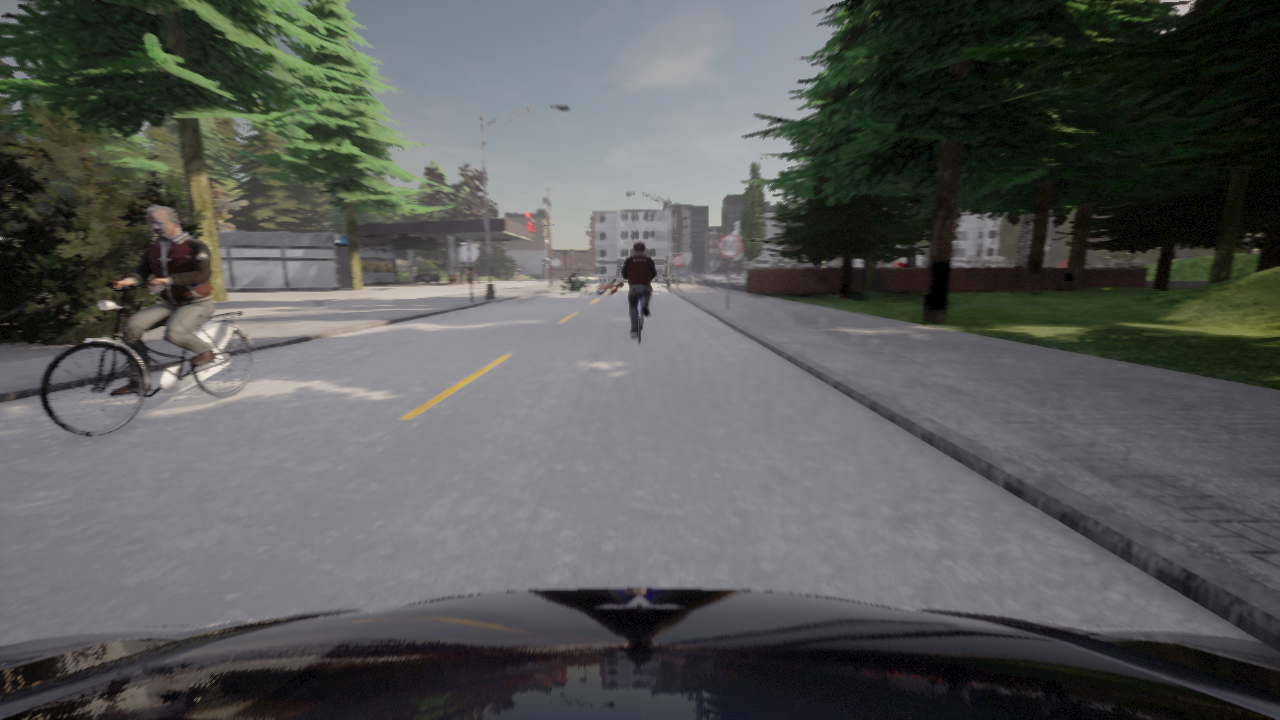cyclist: (0, 588, 1279, 719), (41, 283, 252, 436), (557, 274, 592, 295), (632, 296, 642, 342), (414, 270, 439, 283), (596, 282, 623, 294), (679, 271, 695, 275), (694, 273, 706, 275)
